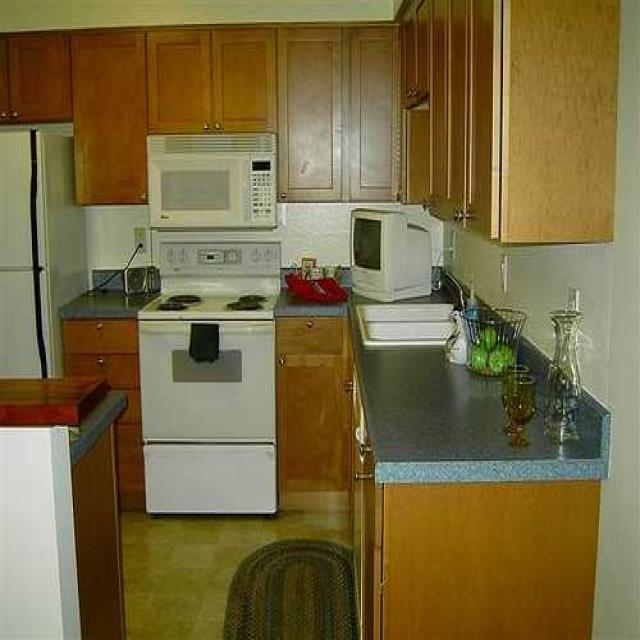refrigerator: (1, 128, 80, 376)
